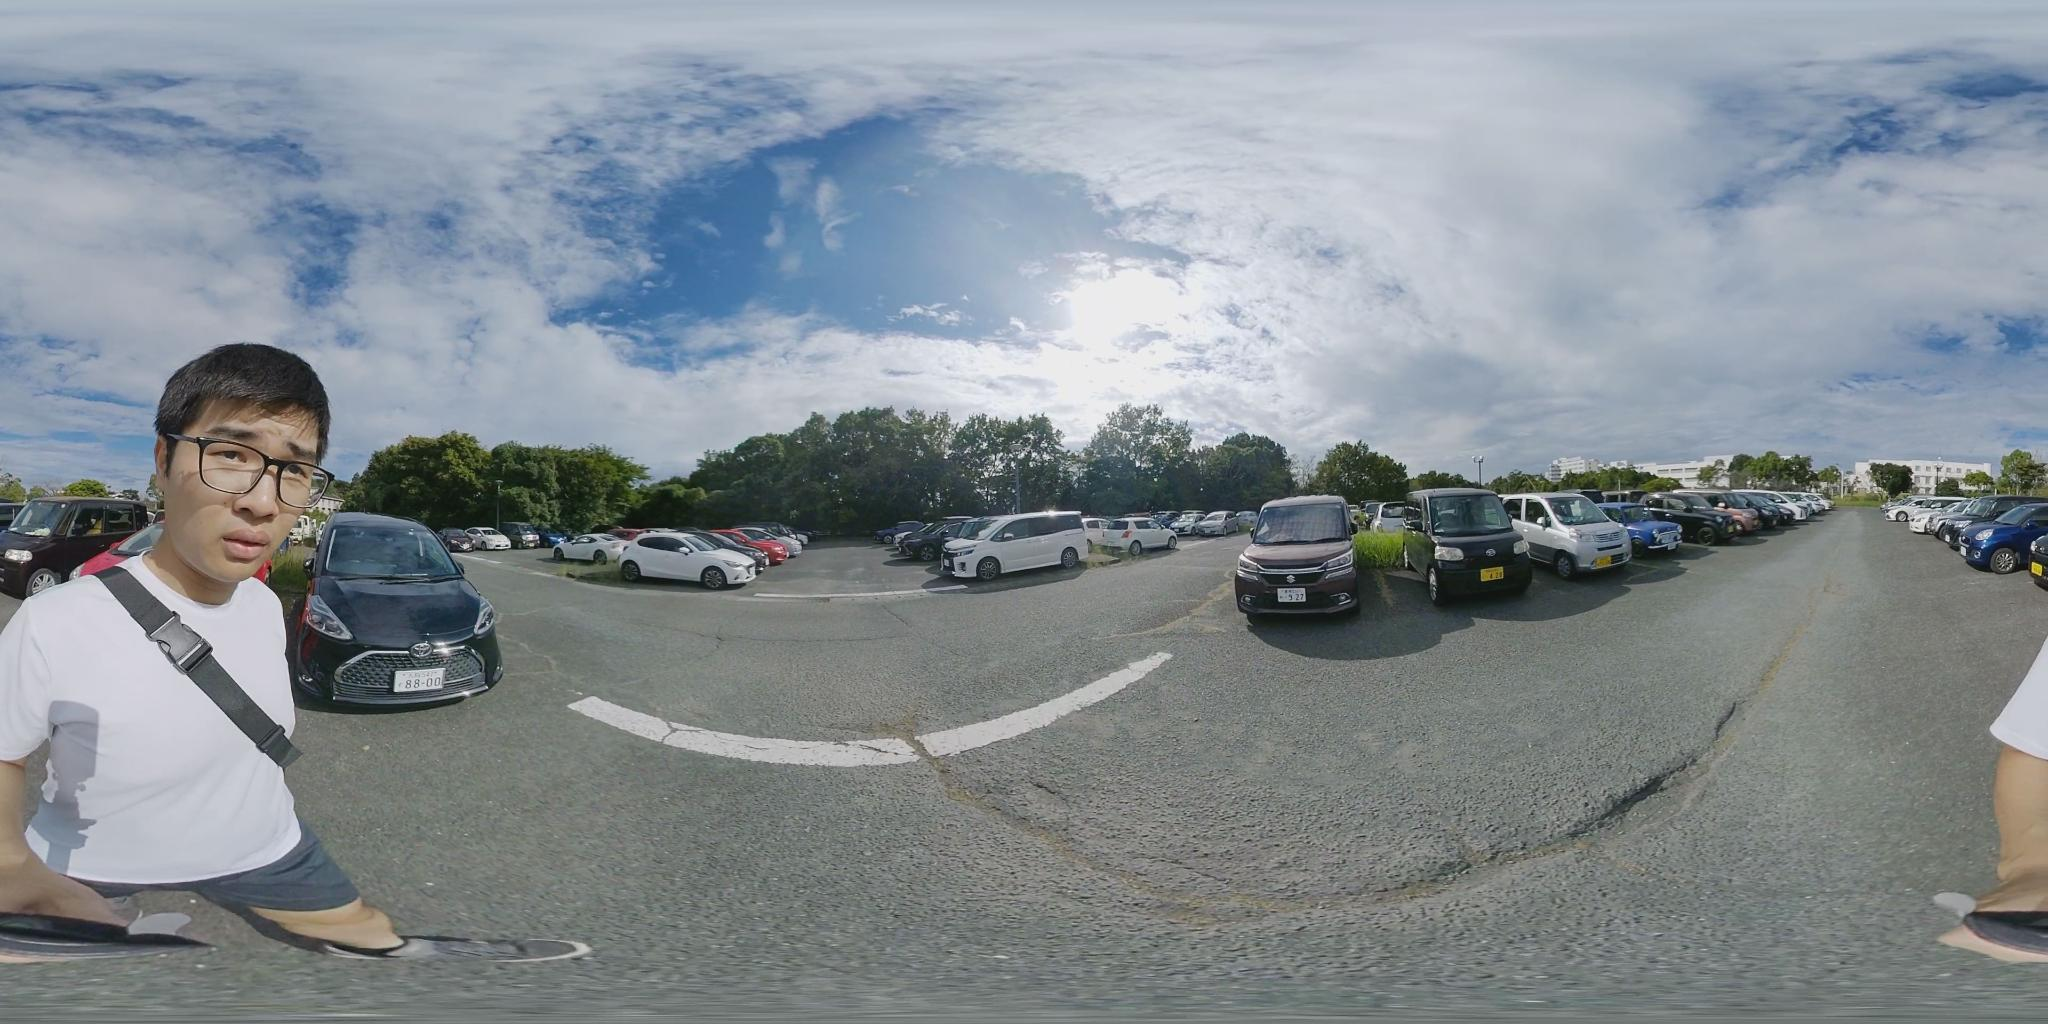car: (311, 516, 499, 708), (1240, 498, 1358, 615), (1405, 492, 1524, 597), (934, 513, 1096, 581), (1506, 494, 1634, 575), (623, 533, 761, 590), (1627, 492, 1762, 546), (707, 526, 807, 566), (1095, 517, 1176, 555), (1736, 490, 1825, 524), (558, 534, 633, 564), (1181, 515, 1236, 538), (448, 530, 505, 551), (438, 532, 479, 552)
